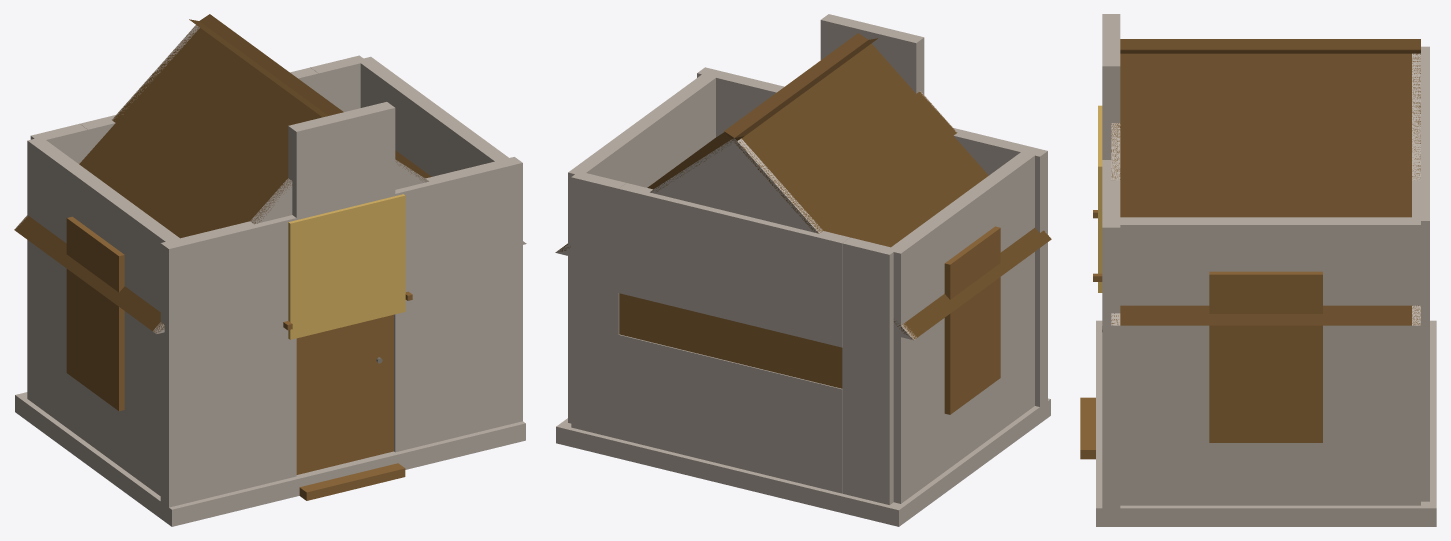
Rendered from Merchant_Shop_LOD0_roblox.fbx.
3 views of the same model, side by side, from view 1: azimuth 30°, elevation 25°; view 2: azimuth 150°, elevation 25°; view 3: azimuth 270°, elevation 25° (orthographic). The views are drawn at different scales.
Visible parts, largest first — view 1: Shop_Wall_F_L, Shop_Roof_L, Shop_Wall_F_R, Shop_Wall_L, Shop_Sign, Shop_Door, Shop_Wall_F_Top, Shop_Foundation, Shop_Window_SL_Frame, Shop_Wall_R, Shop_Wall_B_R, Shop_Step (+4 smaller); view 2: Shop_Roof_L, Shop_Wall_L, Shop_Wall_B_Top, Shop_Wall_B_Bot, Shop_Wall_B_L, Shop_Wall_B_R, Shop_Foundation, Shop_Window_B_Frame, Shop_Wall_R, Shop_Window_SL_Frame, Shop_Gable_B, Shop_Wall_F_L (+3 smaller); view 3: Shop_Wall_R, Shop_Roof_R, Shop_Window_SR_Frame, Shop_Foundation, Shop_Wall_F_R, Shop_Wall_B_R, Shop_Wall_F_Top, Shop_Roof_L, Shop_Gable_B, Shop_Wall_B_Top, Shop_Step, Shop_Sign (+1 smaller).
Boxes of the visible parts, box(x1,y1,x2,y2) form: Shop_Wall_F_L: box(160, 215, 296, 507); Shop_Roof_L: box(14, 14, 343, 333); Shop_Wall_F_R: box(394, 157, 522, 452); Shop_Wall_L: box(27, 138, 182, 495); Shop_Sign: box(288, 194, 405, 339); Shop_Door: box(296, 314, 393, 474); Shop_Wall_F_Top: box(288, 102, 395, 219); Shop_Foundation: box(15, 392, 525, 526); Shop_Window_SL_Frame: box(66, 216, 124, 411); Shop_Wall_R: box(357, 56, 512, 176); Shop_Wall_B_R: box(310, 55, 366, 111); Shop_Step: box(299, 463, 405, 500); Shop_Roof_L: box(724, 33, 1051, 339); Shop_Wall_L: box(889, 151, 1038, 503); Shop_Wall_B_Top: box(618, 183, 849, 347); Shop_Wall_B_Bot: box(618, 334, 842, 493); Shop_Wall_B_L: box(842, 237, 896, 504); Shop_Wall_B_R: box(571, 171, 626, 438); Shop_Foundation: box(556, 398, 1050, 526); Shop_Window_B_Frame: box(619, 293, 842, 388); Shop_Wall_R: box(568, 72, 719, 423); Shop_Window_SL_Frame: box(944, 226, 1000, 414); Shop_Gable_B: box(555, 138, 916, 340); Shop_Wall_F_L: box(953, 128, 1047, 406); Shop_Wall_R: box(1111, 217, 1420, 505); Shop_Roof_R: box(1111, 39, 1420, 325); Shop_Window_SR_Frame: box(1209, 271, 1322, 442); Shop_Foundation: box(1096, 320, 1436, 526); Shop_Wall_F_R: box(1102, 160, 1120, 508); Shop_Wall_B_R: box(1412, 195, 1429, 501); Shop_Wall_F_Top: box(1102, 14, 1120, 159); Shop_Roof_L: box(1120, 49, 1420, 53); Shop_Gable_B: box(1412, 53, 1420, 325); Shop_Wall_B_Top: box(1412, 72, 1429, 194); Shop_Step: box(1080, 397, 1095, 459); Shop_Sign: box(1098, 105, 1102, 292).
Bounding box in the file's own units: 9 × 6.9 × 8.4.
